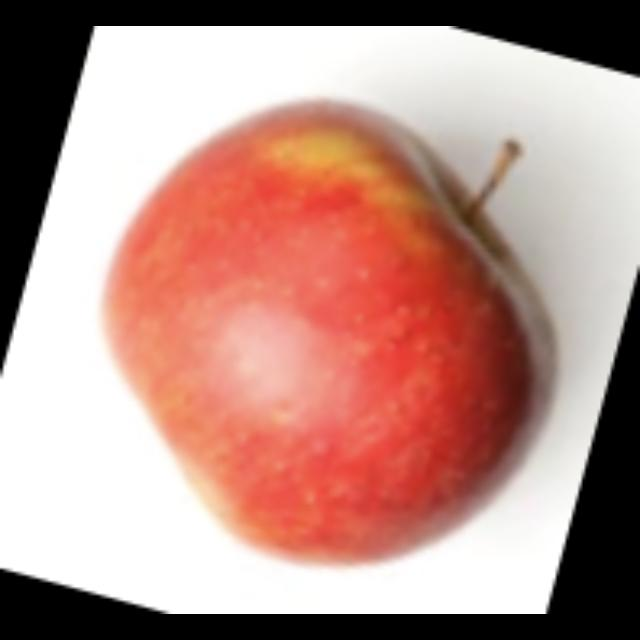Apel Segar: (74, 53, 578, 581)
